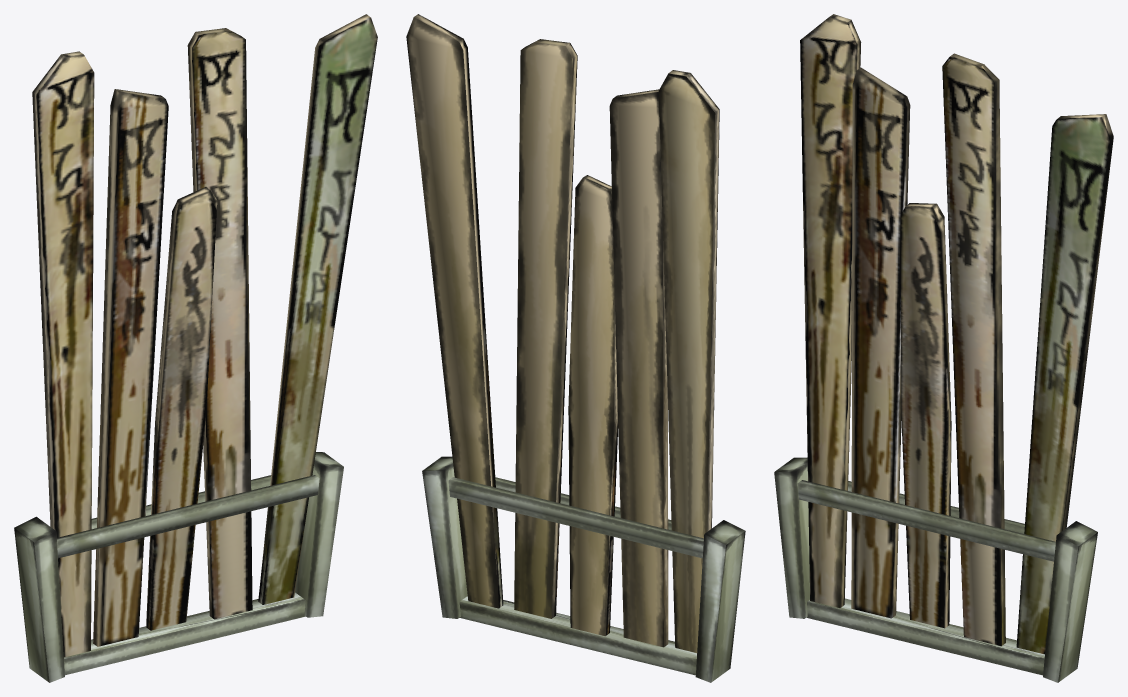
Rendered from PRP_Grave03.FBX.
3 renders of one model, left to right at view 1: azimuth 30°, elevation 25°; view 2: azimuth 150°, elevation 25°; view 3: azimuth 330°, elevation 25°, orthographic.
Visible parts, largest first — view 1: PRP_Grave03; view 2: PRP_Grave03; view 3: PRP_Grave03.
Boxes of the visible parts, x1,y1,x2,y2 form: PRP_Grave03: (14,14,377,682); PRP_Grave03: (406,14,745,682); PRP_Grave03: (774,14,1113,682).
Size of the model in its own units: 138 by 235 by 19.35.
